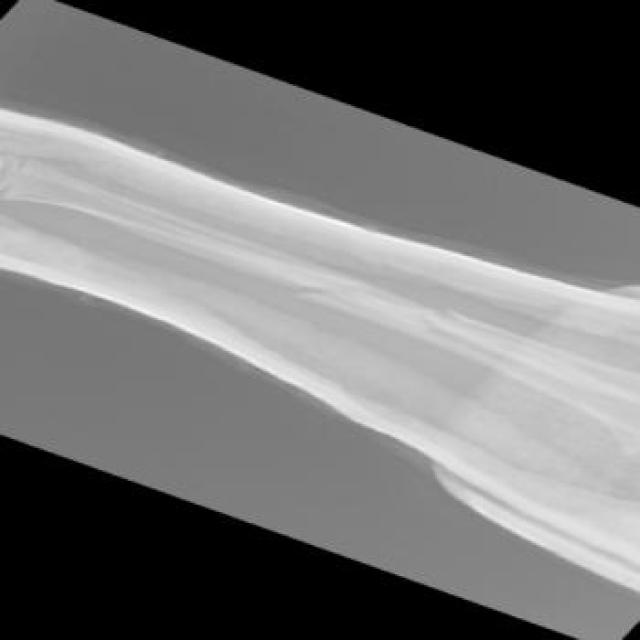Fracture: (254, 272, 476, 352)
